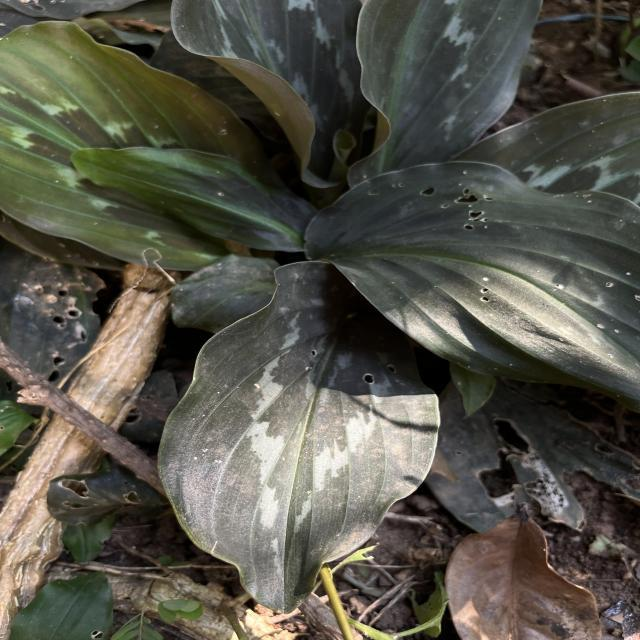Kaempferia galanga linn: (151, 257, 445, 618)
